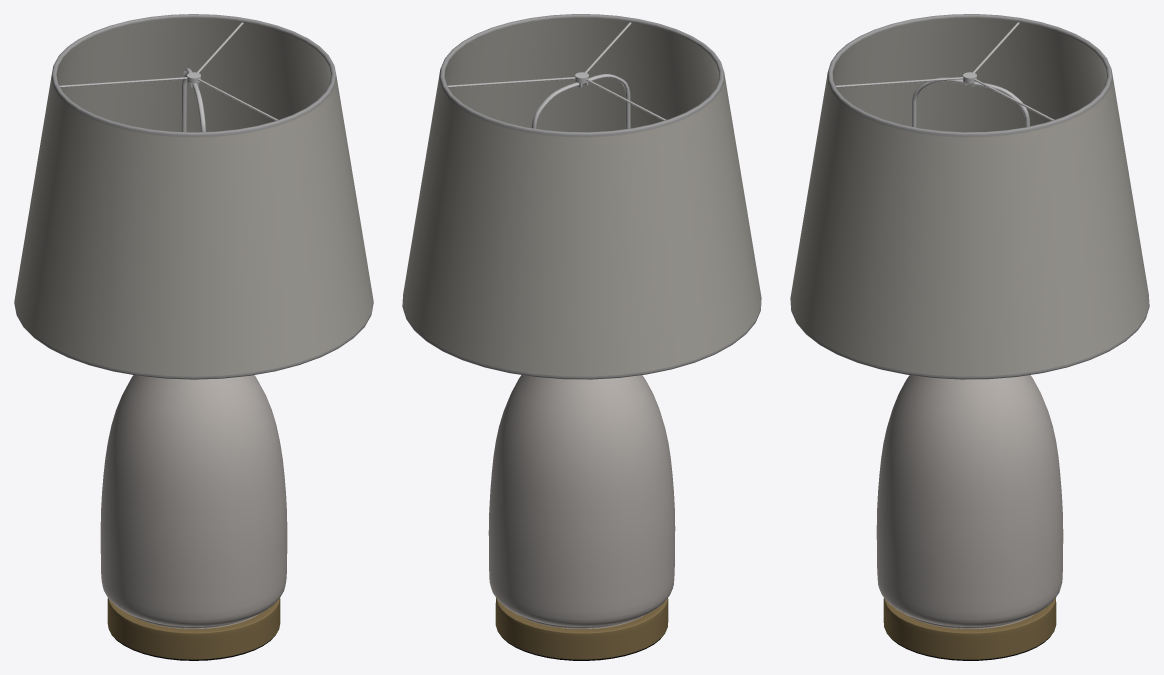
Rendered from plant_B075X2Y3Q9.glb.
3 views of the same model, side by side, from view 1: azimuth 30°, elevation 25°; view 2: azimuth 150°, elevation 25°; view 3: azimuth 270°, elevation 25° (orthographic).
Parts seen in each view (by area): view 1: RootNode; view 2: RootNode; view 3: RootNode.
Part boxes in pixels (x1,y1,x2,y2): RootNode: (14, 14, 373, 660); RootNode: (402, 14, 761, 660); RootNode: (790, 14, 1149, 660).
Bounding box in the file's own units: 0.2851 × 0.4835 × 0.2851.
1 material, 1 textured.
